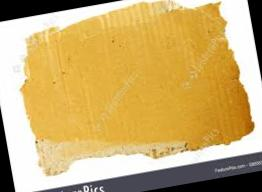Kertas: (21, 1, 253, 174)
